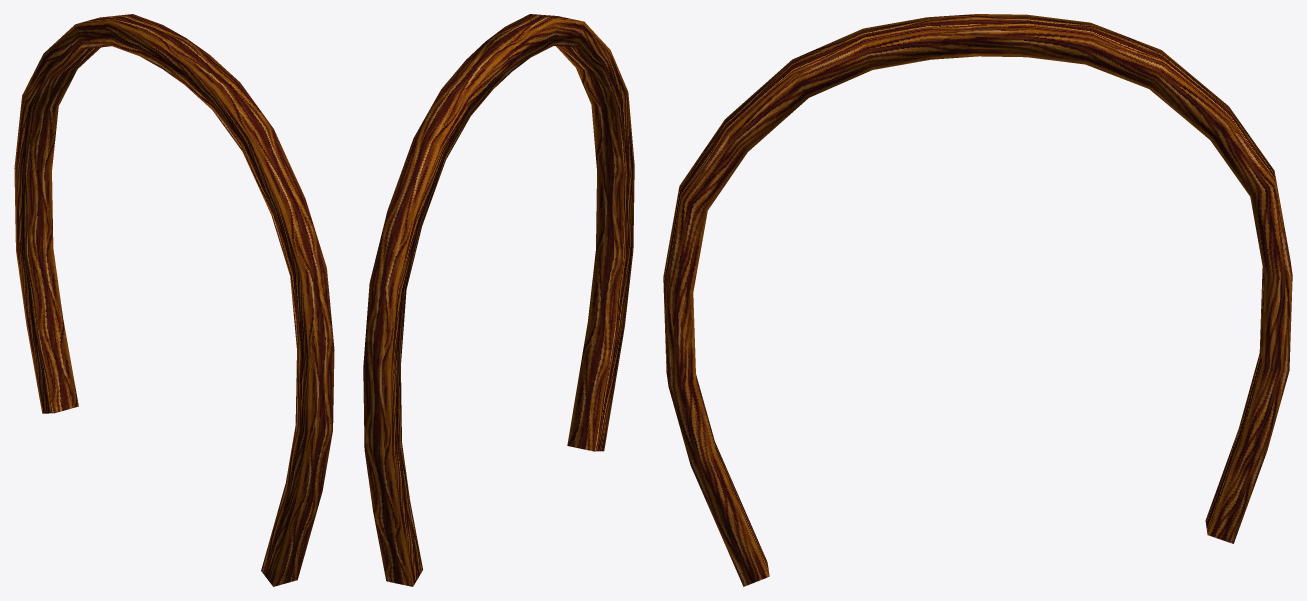
File: EKH_BARRELROOM_PS_JA1_ARCHINNER.obj
3 views of the same model, side by side, from view 1: azimuth 30°, elevation 25°; view 2: azimuth 150°, elevation 25°; view 3: azimuth 270°, elevation 25° (orthographic). The views are drawn at different scales.
Visible parts, largest first — view 1: JA1_archInner; view 2: JA1_archInner; view 3: JA1_archInner.
Part boxes in pixels (x1=…): JA1_archInner: x1=14, y1=14, x2=334, y2=586; JA1_archInner: x1=363, y1=14, x2=634, y2=586; JA1_archInner: x1=663, y1=14, x2=1292, y2=586.
Bounding box in the file's own units: 29.53 × 248 × 256.
